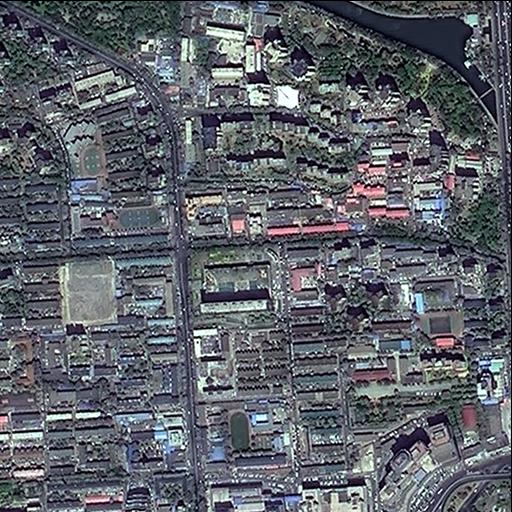school: (222, 400, 293, 457), (56, 114, 107, 180), (104, 199, 175, 236)
